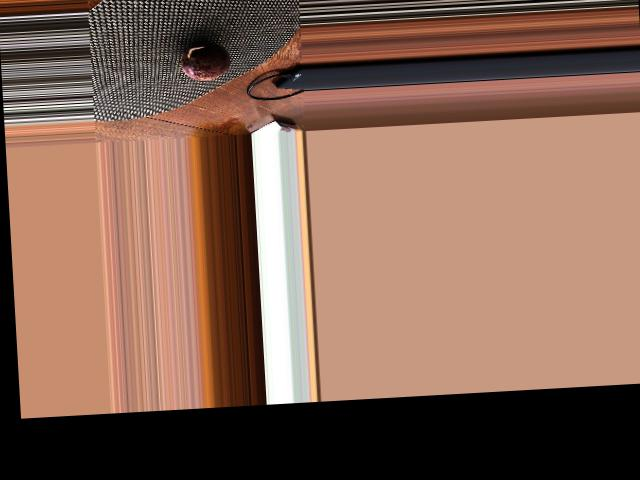beet: (180, 41, 231, 81)
